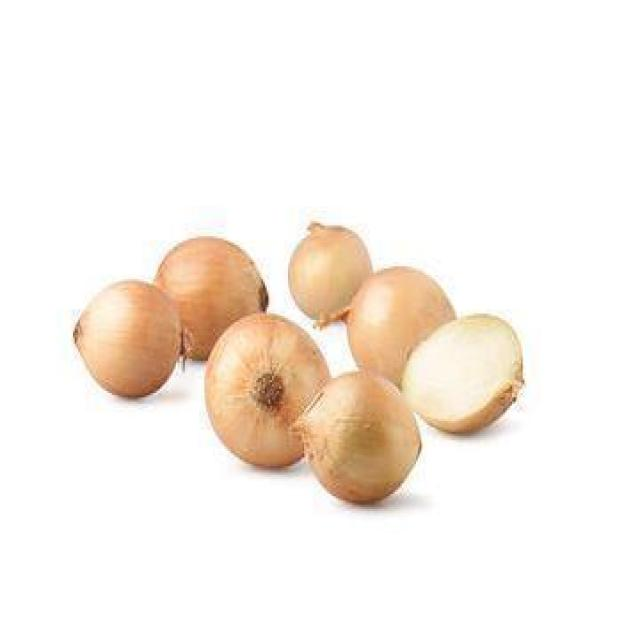Onion: (204, 312, 329, 471), (288, 371, 423, 507), (317, 266, 455, 395), (73, 277, 195, 400), (402, 313, 524, 434), (156, 234, 268, 365), (286, 219, 372, 322)
